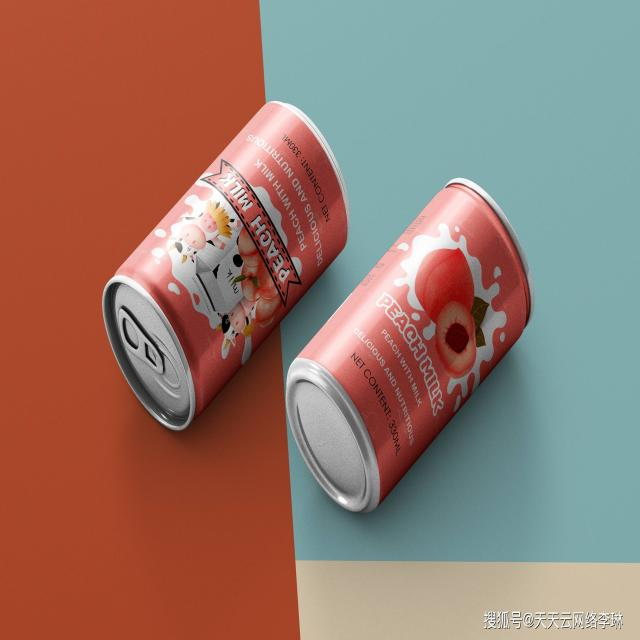can: (102, 100, 353, 434), (286, 176, 534, 514)
